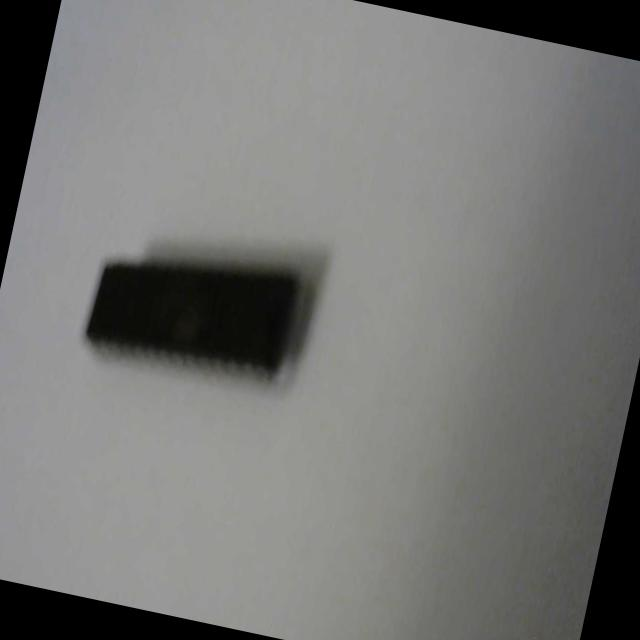atmega: (75, 213, 322, 401)
